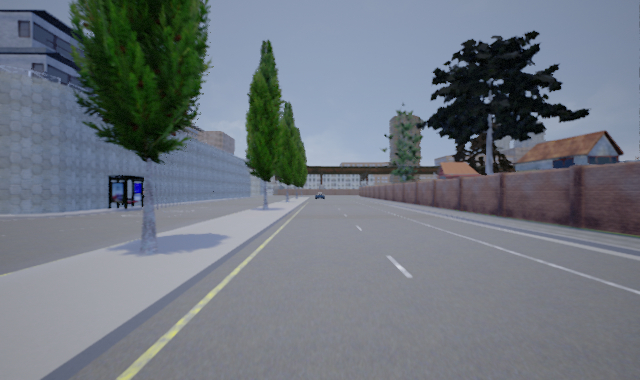vehicle: (314, 192, 325, 200)
